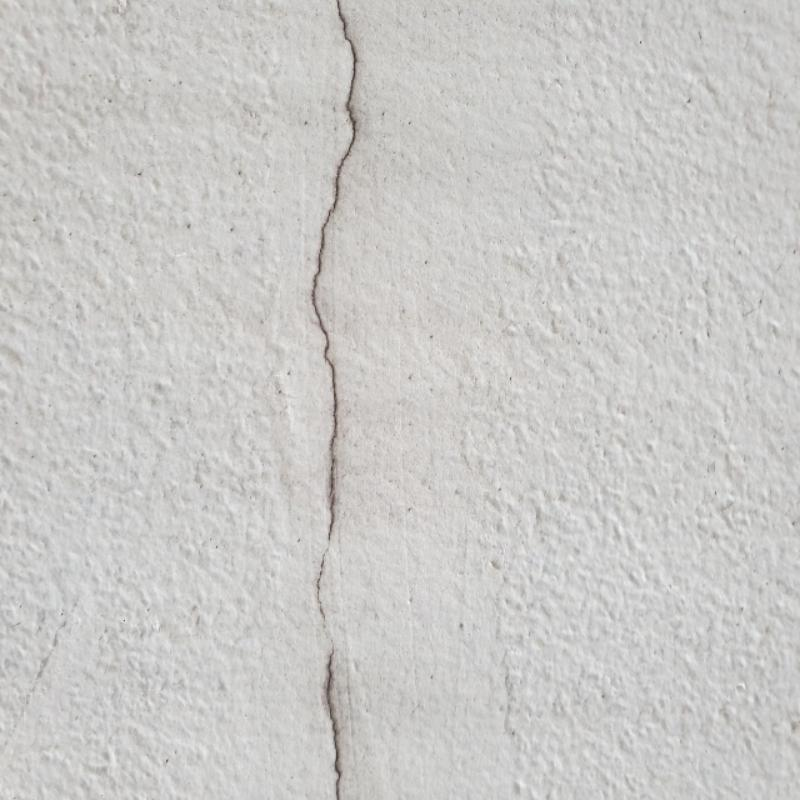pothole: (306, 9, 364, 793)
